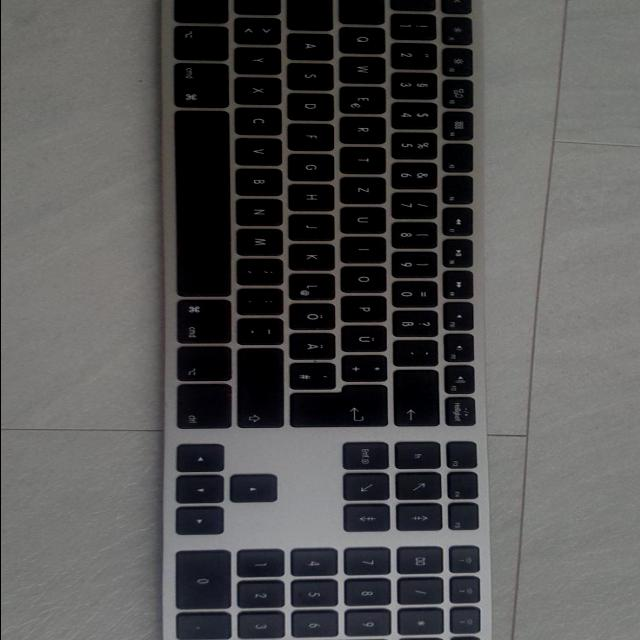0: (396, 279, 443, 306)
1: (394, 12, 440, 39)
2: (394, 41, 441, 68)
3: (394, 70, 442, 98)
4: (395, 100, 443, 128)
5: (395, 130, 442, 158)
6: (395, 161, 442, 189)
7: (395, 191, 442, 217)
8: (395, 221, 442, 248)
9: (395, 250, 442, 277)
a: (290, 31, 338, 59)
accent: (397, 339, 444, 365)
ae: (291, 331, 341, 359)
alt-left: (174, 24, 233, 59)
altgr-right: (176, 345, 234, 381)
b: (239, 167, 287, 195)
c: (238, 106, 286, 134)
caret: (393, 0, 440, 9)
comma: (240, 256, 288, 284)
d: (290, 91, 338, 119)
del: (396, 368, 444, 424)
e: (343, 84, 391, 112)
enter: (291, 384, 393, 426)
f: (291, 122, 339, 150)
g: (291, 152, 339, 180)
h: (291, 182, 339, 210)
hash: (293, 360, 341, 388)
i: (345, 235, 392, 262)
j: (292, 213, 340, 239)
k: (292, 242, 340, 269)
keyboard: (156, 0, 500, 640)
l: (292, 272, 340, 299)
less: (238, 15, 286, 43)
m: (240, 226, 288, 254)
minus: (240, 316, 288, 344)
n: (239, 197, 287, 225)
o: (344, 264, 392, 291)
oe: (292, 301, 340, 329)
p: (345, 295, 392, 321)
plus: (345, 353, 393, 380)
point: (240, 286, 288, 314)
q: (342, 25, 390, 52)
r: (343, 114, 391, 142)
s: (290, 62, 338, 89)
shift-left: (236, 1, 286, 13)
shift-lock: (289, 0, 337, 29)
shift-right: (239, 346, 289, 427)
space: (177, 108, 236, 296)
ss: (396, 308, 443, 336)
strg-left: (175, 0, 233, 22)
strg-right: (178, 382, 236, 430)
t: (344, 145, 392, 172)
tab: (341, 0, 389, 22)
u: (343, 205, 391, 232)
ue: (345, 324, 392, 351)
v: (239, 136, 287, 164)
w: (342, 54, 390, 82)
x: (237, 75, 287, 103)
y: (238, 45, 286, 73)
z: (343, 175, 391, 203)
